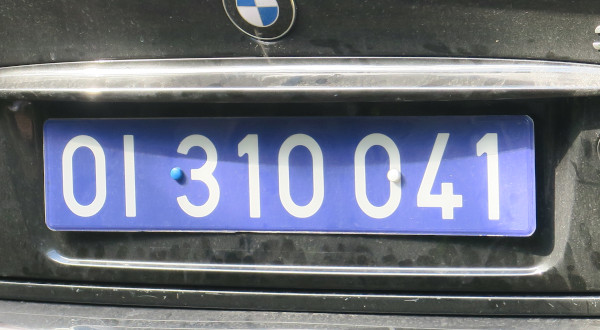license_plate: (42, 119, 536, 234)
